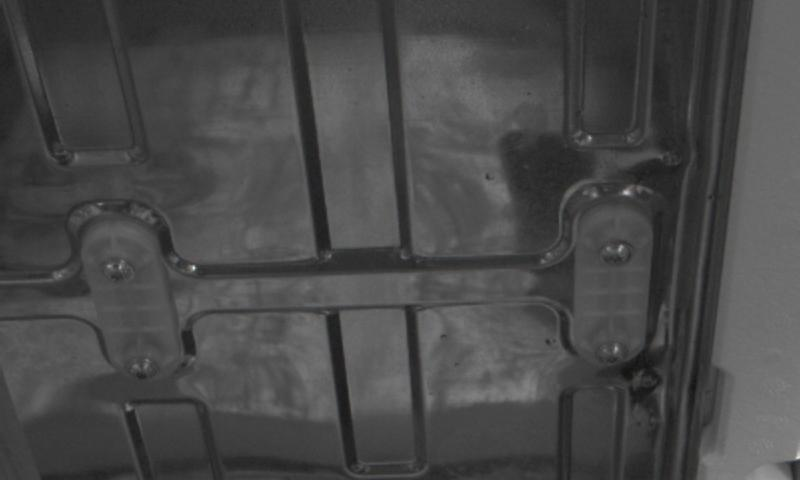vida-ok: (593, 229, 640, 273), (92, 251, 138, 295), (587, 331, 633, 370), (119, 347, 164, 386)
